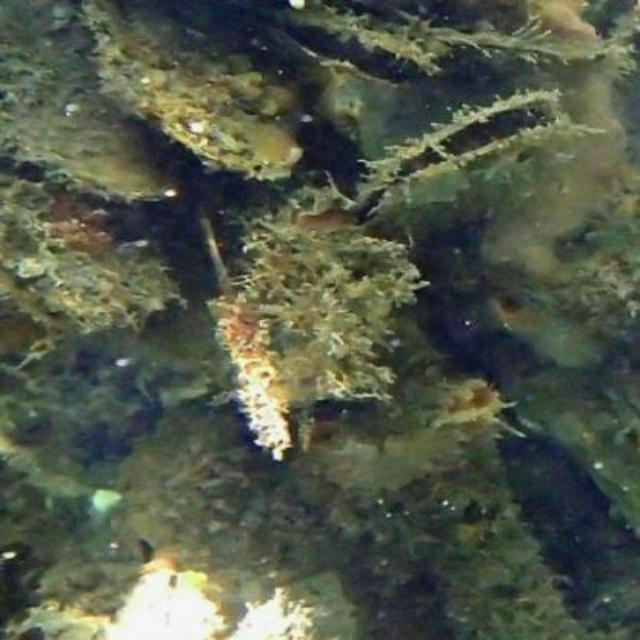Oyster-Closed: (78, 0, 298, 184), (0, 0, 184, 204), (235, 205, 395, 408)
Oyster-Open: (290, 90, 590, 238), (0, 168, 182, 336), (324, 370, 512, 494), (261, 0, 429, 90)
